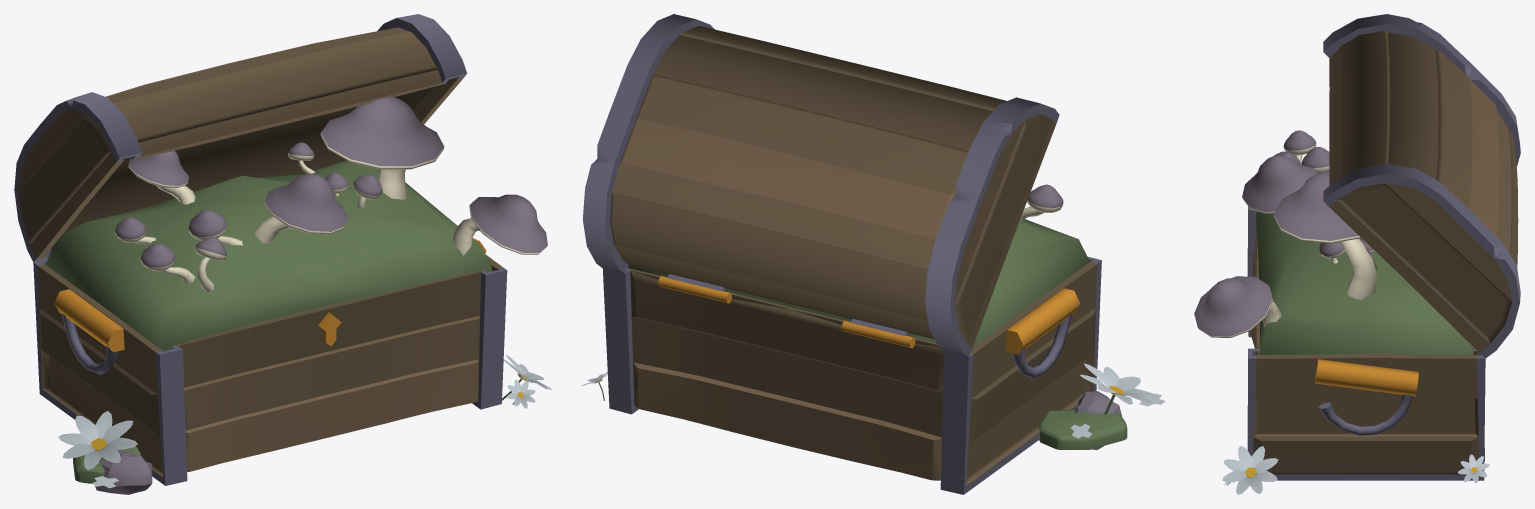
Rendered from P_tradeChest_01_LD.fbx.
The picture shows the model from 3 angles, left to right: view 1: azimuth 30°, elevation 25°; view 2: azimuth 150°, elevation 25°; view 3: azimuth 270°, elevation 25°; orthographic projection. The views are drawn at different scales.
Parts seen in each view (by area): view 1: P_tradeChest_01; view 2: P_tradeChest_01; view 3: P_tradeChest_01.
Part boxes in pixels (x1,y1,x2,y2): P_tradeChest_01: (14, 14, 551, 494); P_tradeChest_01: (581, 14, 1165, 494); P_tradeChest_01: (1194, 14, 1520, 494).
Bounding box in the file's own units: 207 × 149 × 134.
1 material, 1 textured.
